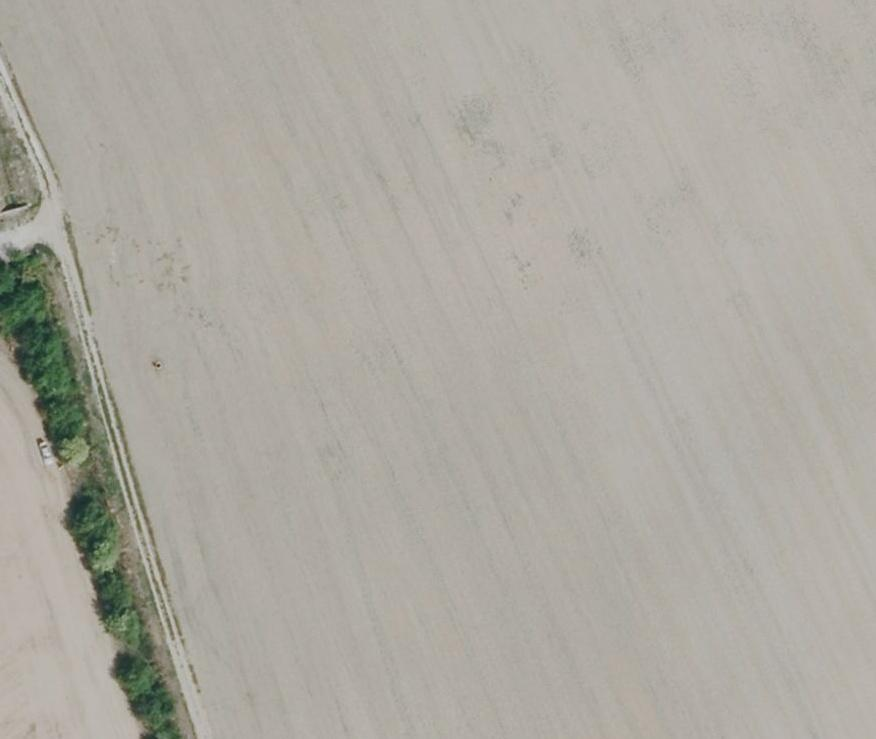field: (0, 3, 876, 735), (0, 344, 135, 735)
forest: (0, 250, 181, 738)
